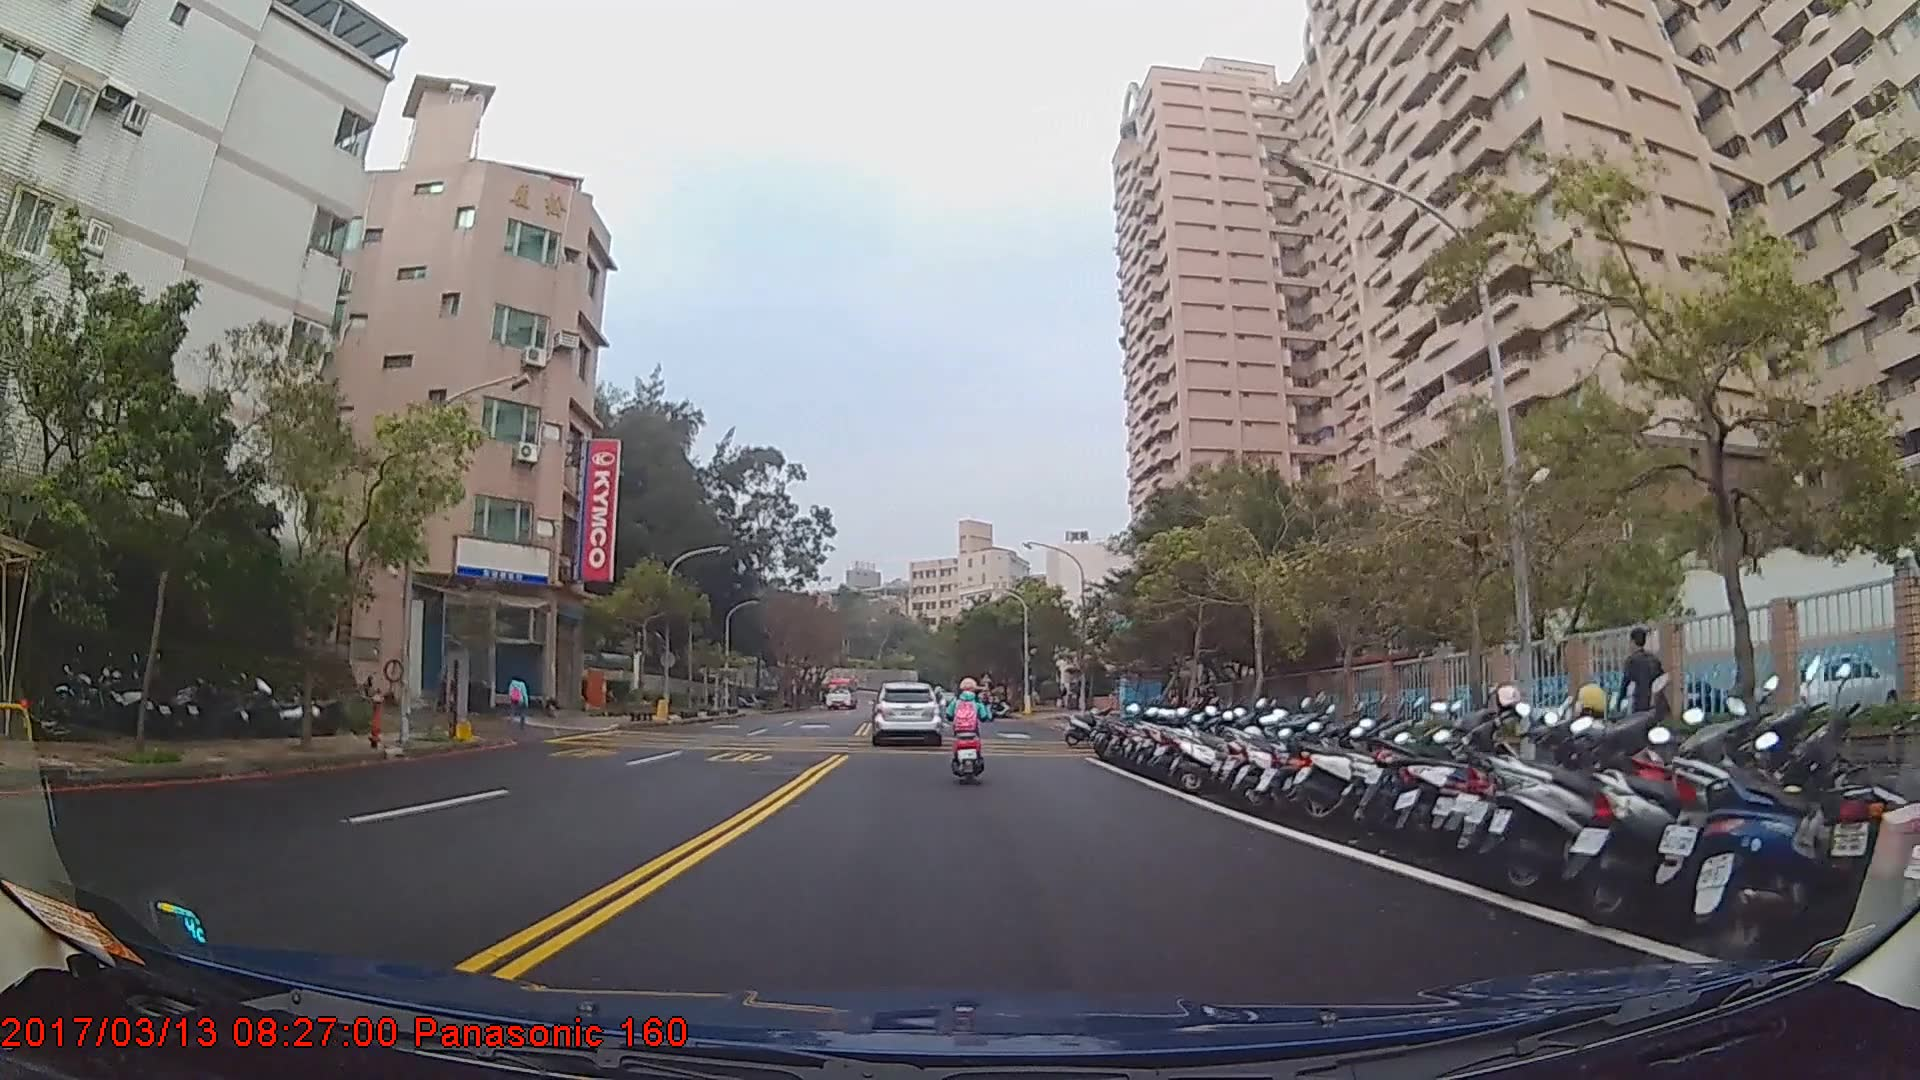pedestrian: (1616, 625, 1667, 772), (508, 671, 530, 733)
rider: (946, 671, 993, 786)
vehicle: (871, 678, 944, 746), (821, 673, 858, 711)
